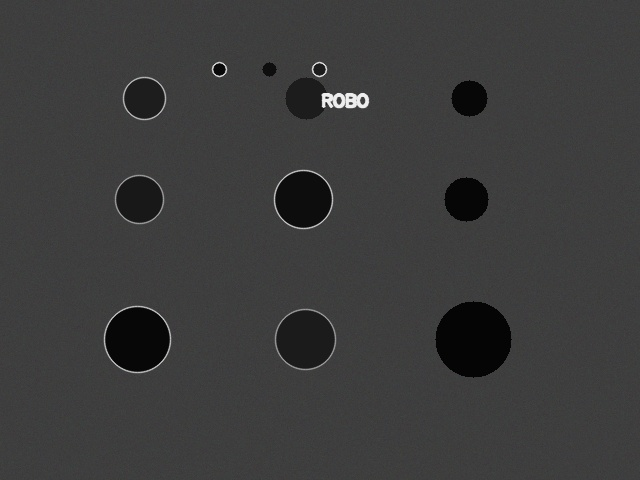hole: (435, 301, 511, 377), (104, 306, 170, 372), (275, 309, 335, 369), (274, 170, 332, 228), (115, 175, 163, 223), (444, 177, 488, 221), (123, 77, 165, 119), (285, 77, 327, 119), (451, 80, 487, 116), (212, 62, 226, 76), (262, 62, 276, 76), (312, 62, 326, 76)
